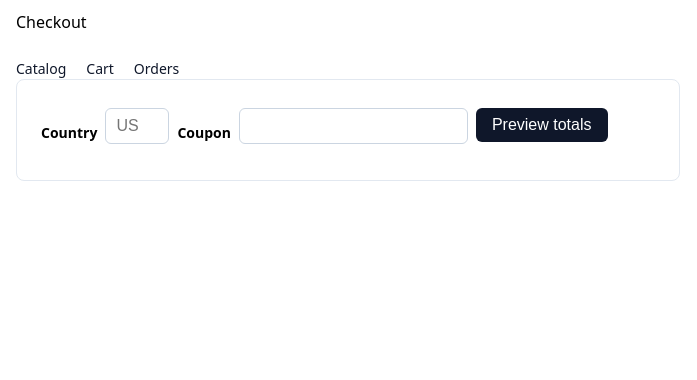
Test case: CheckoutPage › shows the delivery charge the gateway quoted, and hides it when the field is absent
Click the button "Preview totals". click: (542, 125)
box: [476, 108, 608, 142]
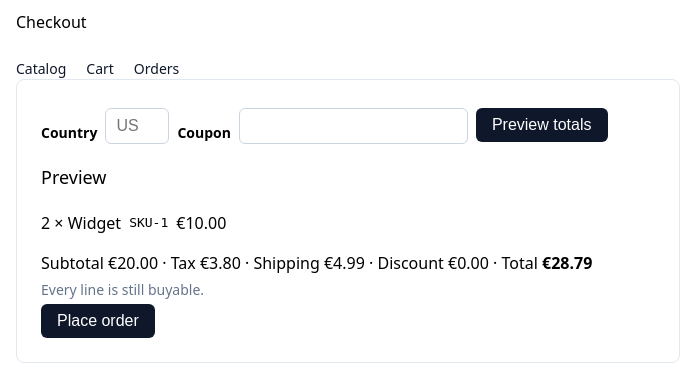
Check: the element with test id "checkout-preview" shows "Shipping €4.99", box [41, 164, 655, 338]
Check: the element with test id "checkout-preview" shows "Total €28.79", box [41, 164, 655, 338]
Click the button "Preview totals". click: (542, 125)
box: [476, 108, 608, 142]
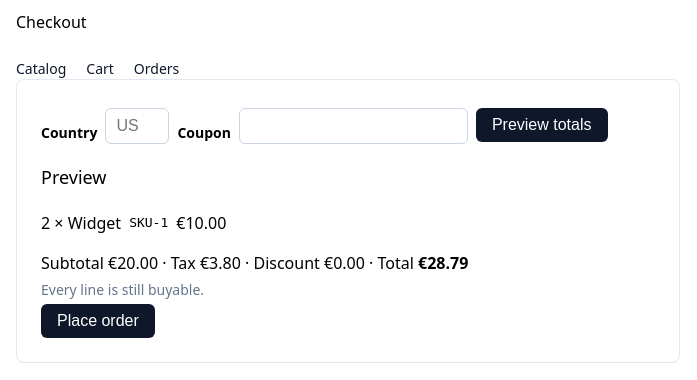
Check: the element with test id "checkout-preview" no longer shows "Shipping"
